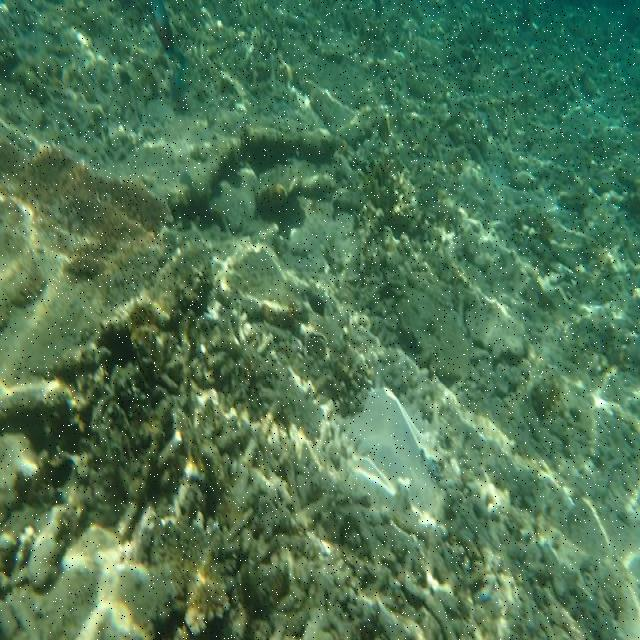reefs: (1, 146, 216, 416)
